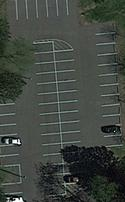parkingspot: (31, 41, 67, 198), (53, 48, 87, 185), (92, 20, 124, 148), (5, 0, 80, 22), (0, 103, 21, 168), (0, 182, 25, 202)
